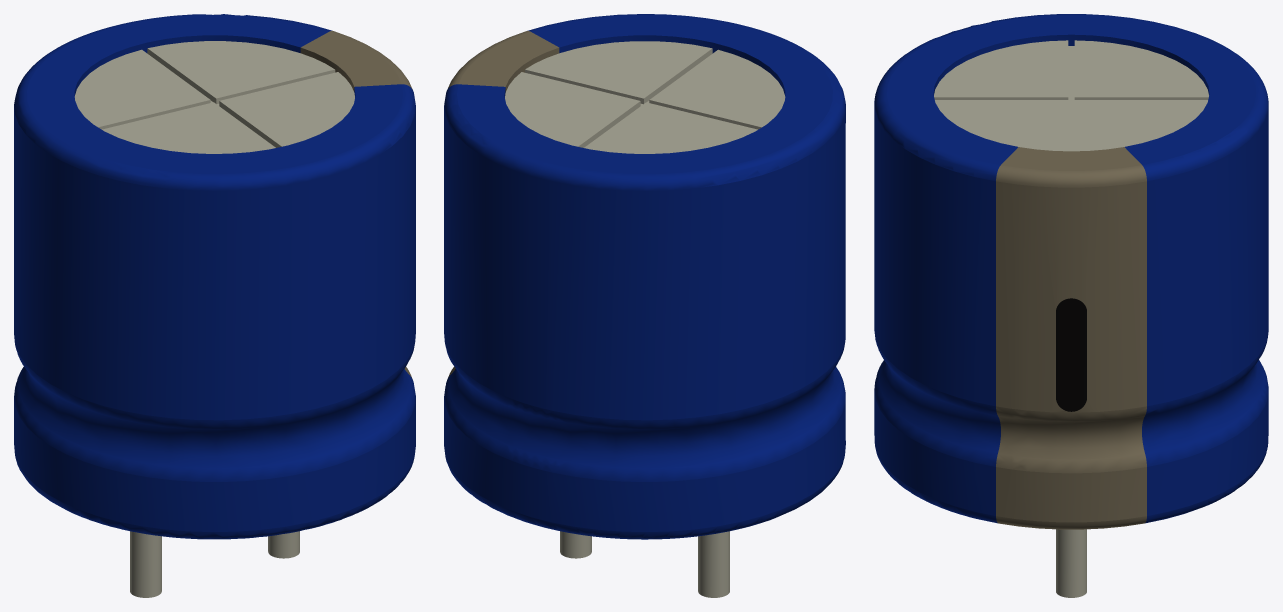
File: cap-radial.glb
3 renders of one model, left to right at view 1: azimuth 30°, elevation 25°; view 2: azimuth 150°, elevation 25°; view 3: azimuth 270°, elevation 25°, orthographic.
Bounding box in the file's own units: 6.3 × 8.3 × 6.3.
